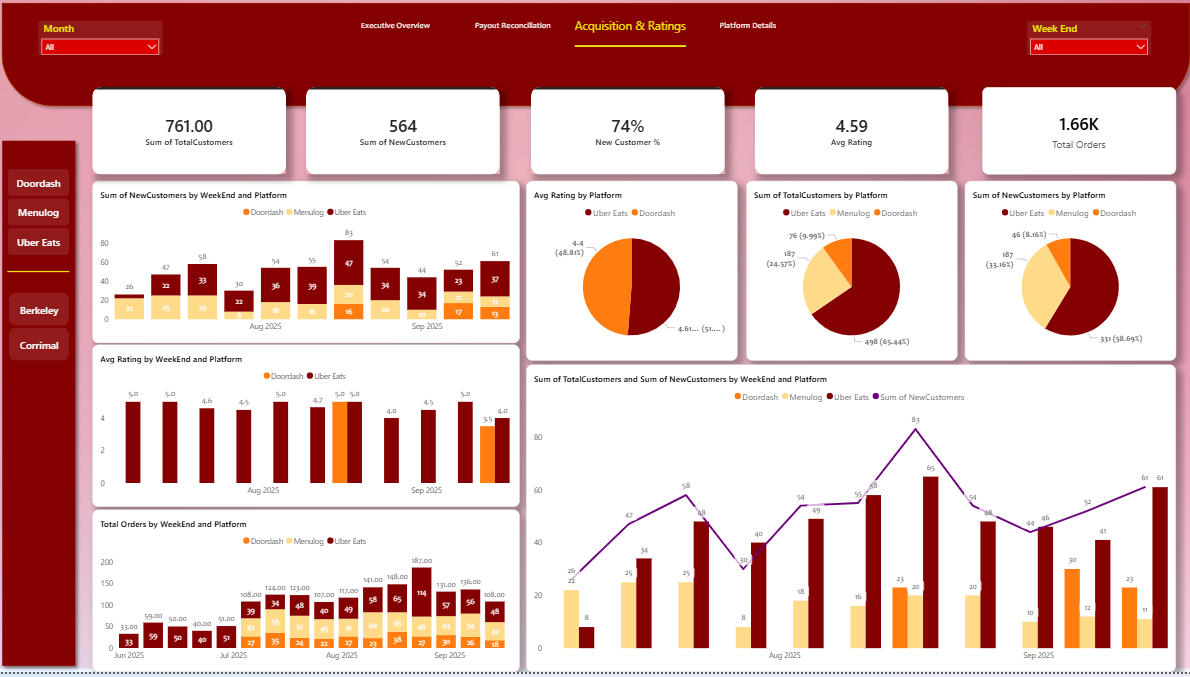

The page's visual inventory and layout, read from the dashboard file:
{"tool":"powerbi","page":{"name":"Acquisition & Ratings","canvas":[1920,1080],"ordinal":2},"visuals":[{"type":"shape","box":[0,0,1920,184],"z":0},{"type":"shape","box":[0,219.9,136.9,860.1],"z":1000},{"type":"pageNavigator","box":[550,10,742,70],"z":3000},{"type":"slicer","fields":{"Values":["DimWeek.MonthName"]},"box":[68,38,198,54],"z":4000},{"type":"slicer","fields":{"Values":["DimWeek.WeekEnd"]},"box":[1650,38,198,54],"z":5000},{"type":"columnChart","fields":{"Category":["DimWeek.WeekEnd"],"Series":["DimPlatform.Platform"],"Y":["Sum(Fact_New_Customer.NewCustomers)"]},"box":[154,294,684,260],"z":6000},{"type":"cardVisual","fields":{"Data":["_Measures.New Customer %"]},"box":[856,144,310,140],"z":7000},{"type":"cardVisual","fields":{"Data":["Sum(Fact_New_Customer.TotalCustomers)"]},"box":[154,144,310,140],"z":8000},{"type":"cardVisual","fields":{"Data":["Sum(Fact_New_Customer.NewCustomers)"]},"box":[496,144,310,140],"z":9000},{"type":"cardVisual","fields":{"Data":["_Measures.Avg Rating"]},"box":[1214,144,310,140],"z":10000},{"type":"card","fields":{"Values":["_Measures.Total Orders"]},"box":[1578,144,310,140],"z":11000},{"type":"pieChart","fields":{"Category":["DimPlatform.Platform"],"Y":["Sum(Fact_New_Customer.TotalCustomers)"]},"box":[1200,294,338,288],"z":12000},{"type":"pieChart","fields":{"Category":["DimPlatform.Platform"],"Y":["Sum(Fact_New_Customer.NewCustomers)"]},"box":[1550,294,338,288],"z":13000},{"type":"clusteredColumnChart","fields":{"Category":["DimWeek.WeekEnd"],"Series":["DimPlatform.Platform"],"Y":["_Measures.Avg Rating"]},"box":[154,556,684,260],"z":14000},{"type":"columnChart","fields":{"Category":["DimWeek.WeekEnd"],"Series":["DimPlatform.Platform"],"Y":["_Measures.Total Orders"]},"box":[154,820,684,260],"z":15000},{"type":"advancedSlicerVisual","fields":{"Values":["DimStore.StoreName"]},"box":[16.3,468.7,106.8,119.4],"z":16000},{"type":"advancedSlicerVisual","fields":{"Values":["DimPlatform.Platform"]},"box":[14.5,269.6,108.6,148.4],"z":17000},{"type":"shape","box":[18.1,432.5,99.5,14.5],"z":18000},{"type":"pieChart","fields":{"Category":["DimPlatform.Platform"],"Y":["_Measures.Avg Rating"]},"box":[848,294,338,288],"z":19000},{"type":"lineClusteredColumnComboChart","fields":{"Category":["DimWeek.WeekEnd"],"Series":["DimPlatform.Platform"],"Y2":["Sum(Fact_New_Customer.NewCustomers)"],"Y":["Sum(Fact_New_Customer.TotalCustomers)"]},"box":[848,588,1040,492],"z":20000}]}

Visuals, with their boxes on the page's 1920x1080 design canvas (x1, y1, x2, y2). These are canvas units, not pixel positions in the 1190x677 screenshot, which may show the page scaled, cropped or inside an application window:
shape: BBox(0, 0, 1920, 184)
shape: BBox(0, 220, 137, 1080)
pageNavigator: BBox(550, 10, 1292, 80)
slicer - DimWeek.MonthName: BBox(68, 38, 266, 92)
slicer - DimWeek.WeekEnd: BBox(1650, 38, 1848, 92)
columnChart - DimWeek.WeekEnd x DimPlatform.Platform: BBox(154, 294, 838, 554)
cardVisual - _Measures.New Customer %: BBox(856, 144, 1166, 284)
cardVisual - Sum(Fact_New_Customer.TotalCustomers): BBox(154, 144, 464, 284)
cardVisual - Sum(Fact_New_Customer.NewCustomers): BBox(496, 144, 806, 284)
cardVisual - _Measures.Avg Rating: BBox(1214, 144, 1524, 284)
card - _Measures.Total Orders: BBox(1578, 144, 1888, 284)
pieChart - DimPlatform.Platform x Sum(Fact_New_Customer.TotalCustomers): BBox(1200, 294, 1538, 582)
pieChart - DimPlatform.Platform x Sum(Fact_New_Customer.NewCustomers): BBox(1550, 294, 1888, 582)
clusteredColumnChart - DimWeek.WeekEnd x DimPlatform.Platform: BBox(154, 556, 838, 816)
columnChart - DimWeek.WeekEnd x DimPlatform.Platform: BBox(154, 820, 838, 1080)
advancedSlicerVisual - DimStore.StoreName: BBox(16, 469, 123, 588)
advancedSlicerVisual - DimPlatform.Platform: BBox(14, 270, 123, 418)
shape: BBox(18, 432, 118, 447)
pieChart - DimPlatform.Platform x _Measures.Avg Rating: BBox(848, 294, 1186, 582)
lineClusteredColumnComboChart - DimWeek.WeekEnd x DimPlatform.Platform: BBox(848, 588, 1888, 1080)
